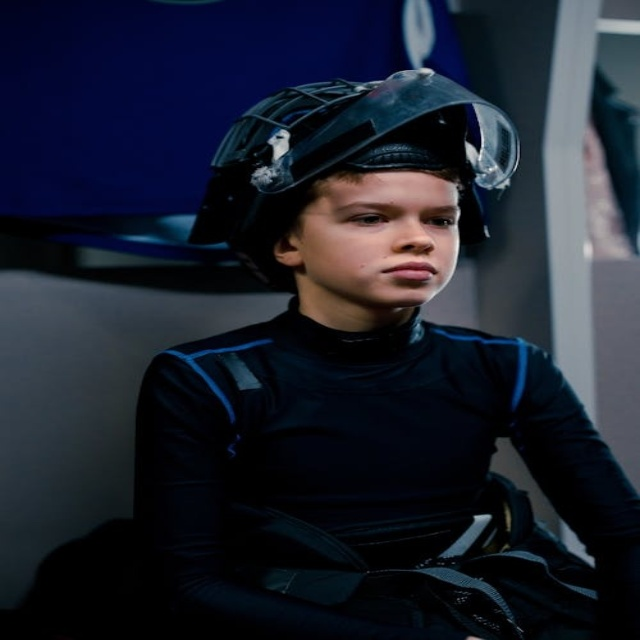Sin_gafas: (325, 199, 462, 232)
Sin_mascara: (362, 255, 444, 299)
